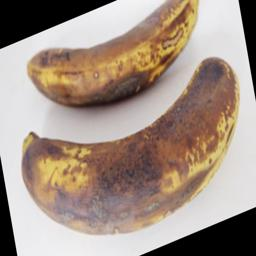Banana Rotten: (12, 122, 241, 225), (28, 20, 221, 105)
